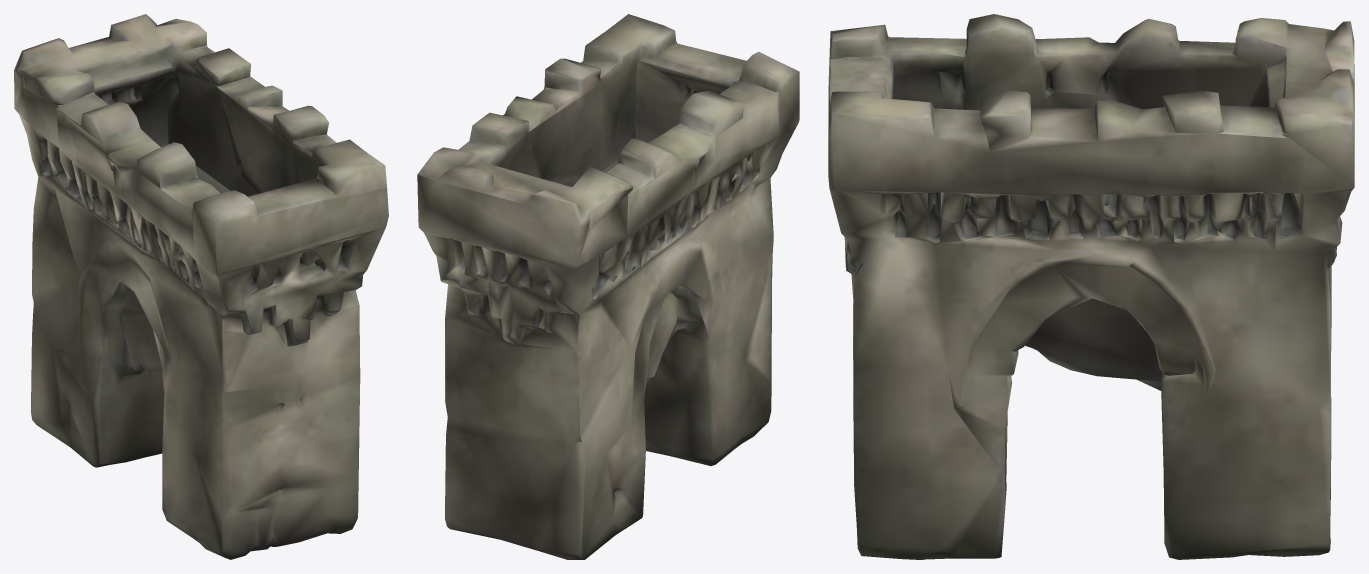
The model's file is old-limestone-battlement-wall-v001.glb.
3 views of the same model, side by side, from view 1: azimuth 30°, elevation 25°; view 2: azimuth 150°, elevation 25°; view 3: azimuth 270°, elevation 25° (orthographic). The views are drawn at different scales.
Visible parts, largest first — view 1: old-limestone-battlement-wall; view 2: old-limestone-battlement-wall; view 3: old-limestone-battlement-wall.
Part boxes in pixels (box(x1,y1,x2,y2)): old-limestone-battlement-wall: box(14, 14, 388, 559); old-limestone-battlement-wall: box(417, 14, 799, 559); old-limestone-battlement-wall: box(828, 14, 1354, 559).
Size of the model in its own units: 1.26 by 2.52 by 2.57.
1 material, 1 textured.
